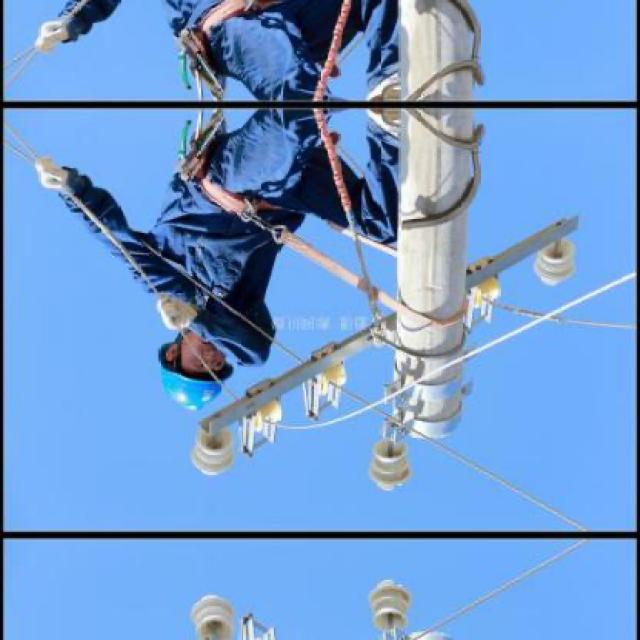con casco: (152, 289, 269, 423)
